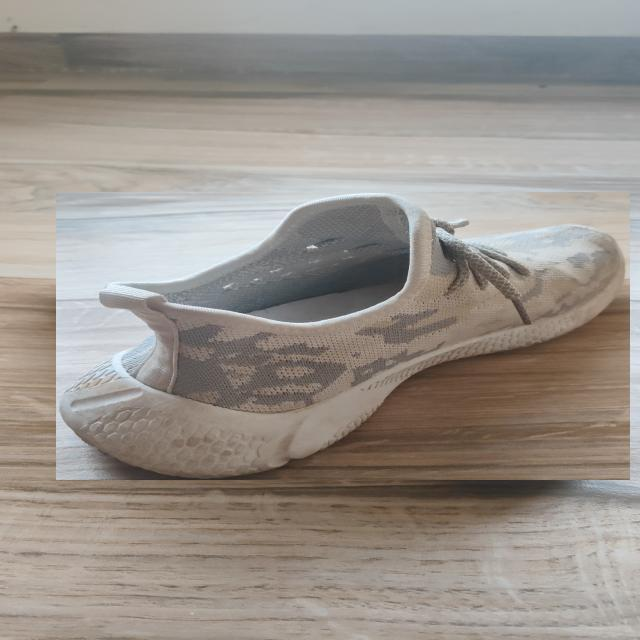shoe: (55, 192, 630, 480)
